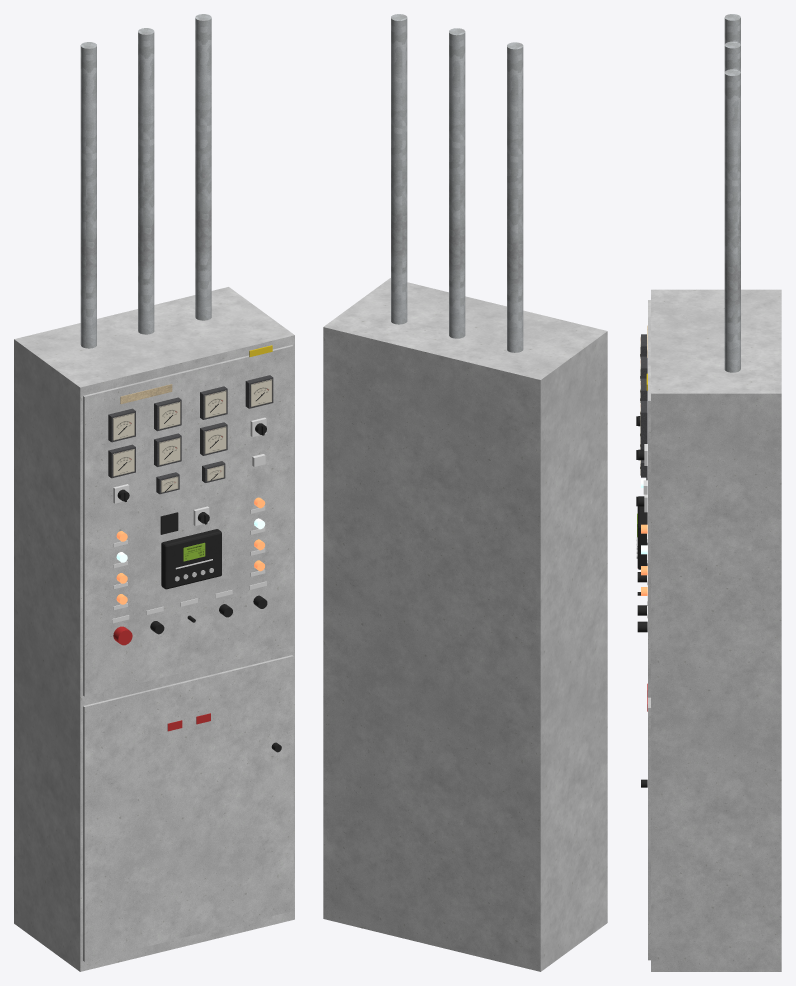
Rendered from B12_Generator_Control_Panel.fbx.
3 renders of one model, left to right at view 1: azimuth 30°, elevation 25°; view 2: azimuth 150°, elevation 25°; view 3: azimuth 270°, elevation 25°, orthographic. The views are drawn at different scales.
Visible parts, largest first — view 1: Body.002, Door_Lower, Door_Upper, Conduit_2, Conduit_0, Conduit_1, DSE_Controller; view 2: Body.002, Conduit_0, Conduit_1, Conduit_2; view 3: Body.002, Conduit_2, Door_Upper, Door_Lower, DSE_Controller, Conduit_1, Conduit_0.
Part boxes in pixels (x1=…): Body.002: x1=14, y1=287, x2=294, y2=971; Door_Lower: x1=83, y1=655, x2=293, y2=961; Door_Upper: x1=83, y1=345, x2=293, y2=696; Conduit_2: x1=195, y1=14, x2=211, y2=320; Conduit_0: x1=80, y1=42, x2=96, y2=348; Conduit_1: x1=138, y1=28, x2=154, y2=334; DSE_Controller: x1=161, y1=529, x2=221, y2=589; Body.002: x1=323, y1=278, x2=607, y2=971; Conduit_0: x1=507, y1=42, x2=523, y2=352; Conduit_1: x1=449, y1=28, x2=465, y2=338; Conduit_2: x1=391, y1=14, x2=407, y2=324; Body.002: x1=651, y1=289, x2=781, y2=971; Conduit_2: x1=724, y1=69, x2=740, y2=372; Door_Upper: x1=648, y1=300, x2=650, y2=697; Door_Lower: x1=648, y1=697, x2=650, y2=960; DSE_Controller: x1=637, y1=506, x2=647, y2=569; Conduit_1: x1=724, y1=41, x2=740, y2=72; Conduit_0: x1=724, y1=14, x2=740, y2=44.
Size of the model in its own units: 0.75 by 2.95 by 0.445.
Materials: 14 (7 with a texture image).
